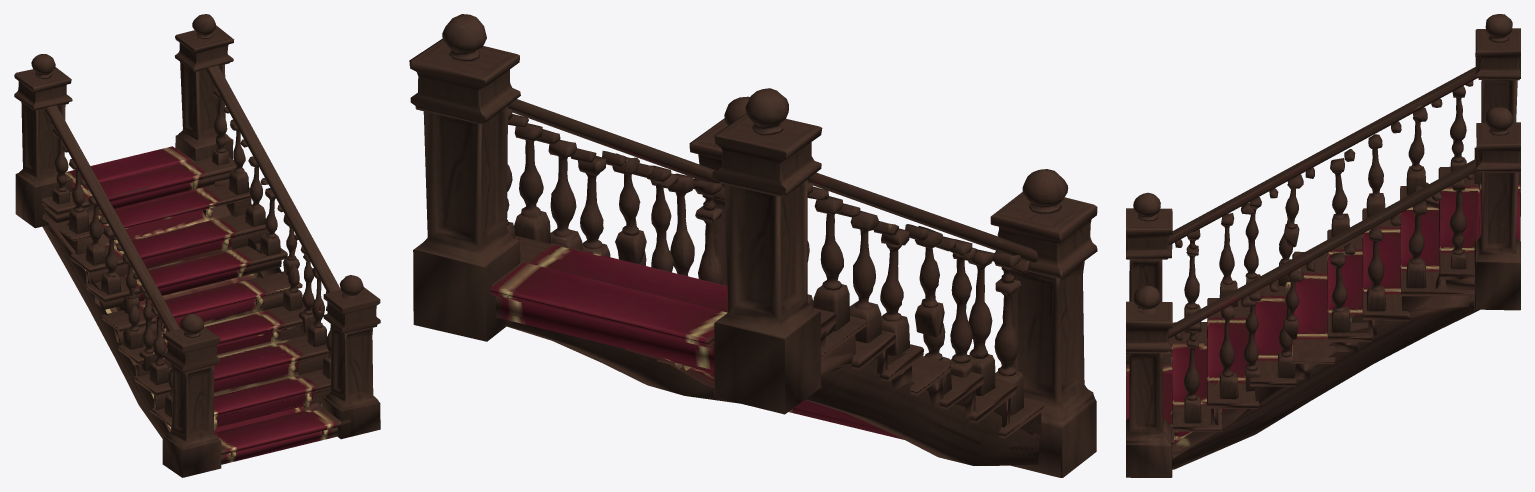
The model's file is staircase.glb.
The picture shows the model from 3 angles, left to right: view 1: azimuth 30°, elevation 25°; view 2: azimuth 150°, elevation 25°; view 3: azimuth 270°, elevation 25°; orthographic projection. The views are drawn at different scales.
Size of the model in its own units: 0.6993 by 1 by 1.
1 material, 1 textured.
